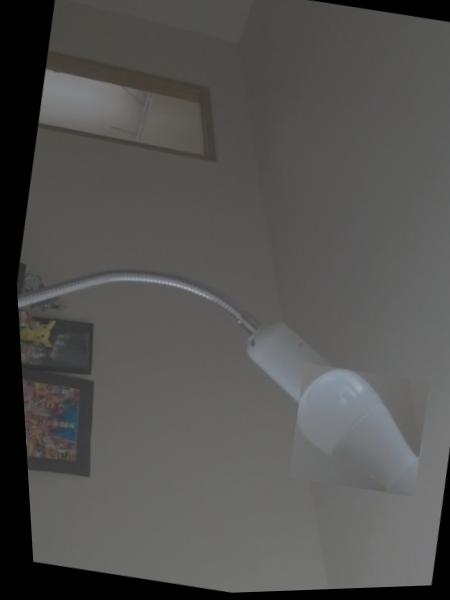Fan: (275, 359, 429, 502)
